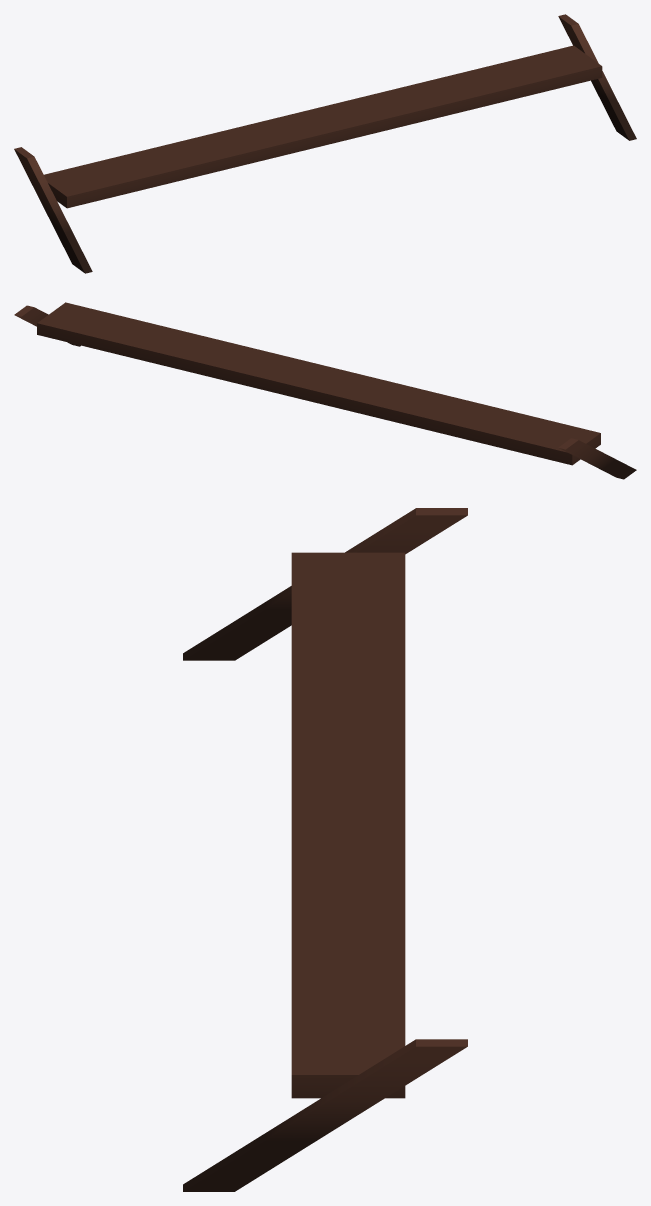
File: Ladder 5M.glb
The picture shows the model from 3 angles, top to bottom: view 1: azimuth 30°, elevation 25°; view 2: azimuth 150°, elevation 25°; view 3: azimuth 270°, elevation 25°; orthographic projection. The views are drawn at different scales.
Visible parts, largest first — view 1: ladder 5M; view 2: ladder 5M; view 3: ladder 5M.
Part boxes in pixels (<box>): ladder 5M: <box>14,14,636,273</box>; ladder 5M: <box>14,302,636,479</box>; ladder 5M: <box>183,508,467,1191</box>.
Size of what is drawn, in the model's own units: 4.34 by 0.5463 by 0.9718.
1 material, 1 textured.
